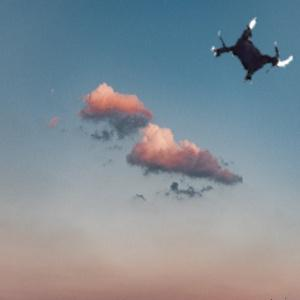drone: (209, 6, 298, 95)
